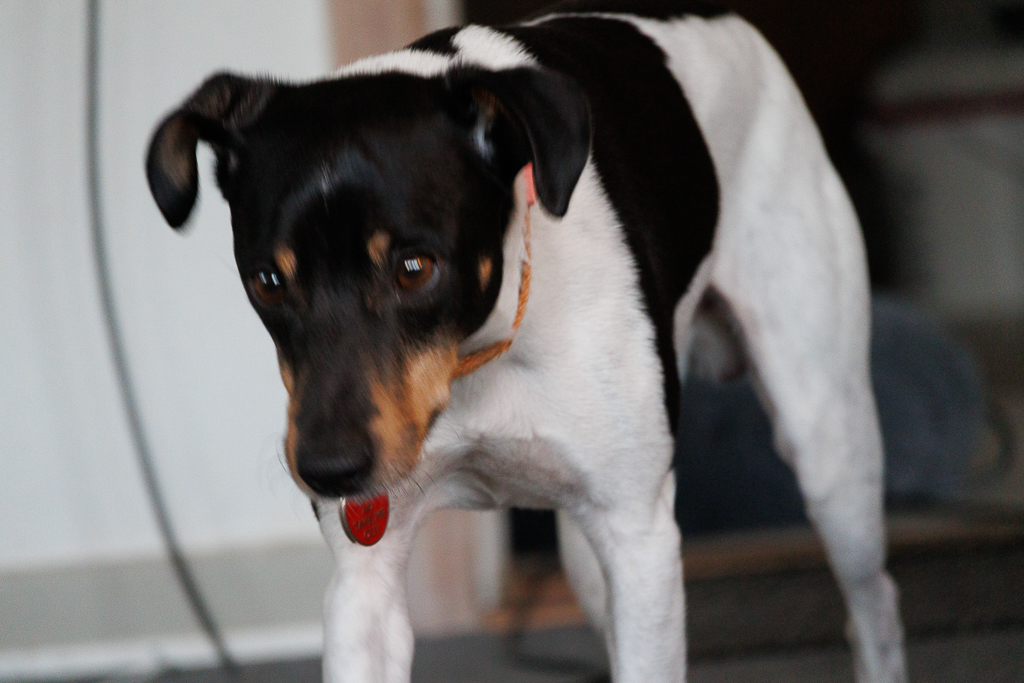Dog: (133, 0, 924, 683)
